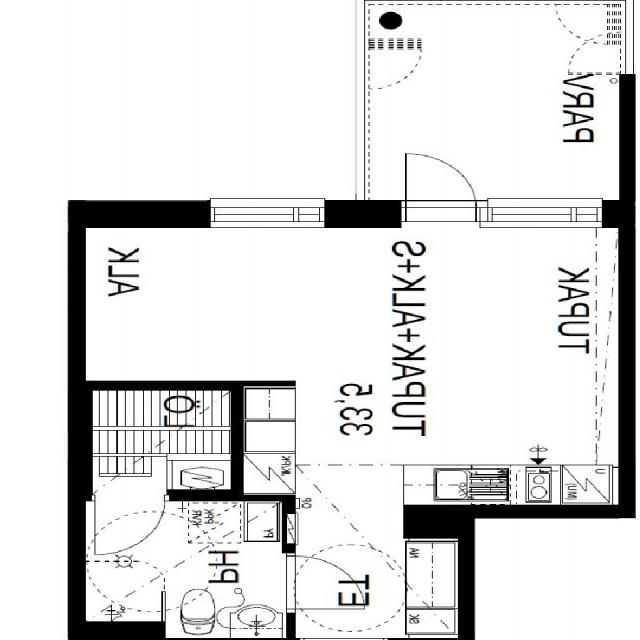door: (406, 147, 476, 228), (95, 489, 164, 554), (287, 556, 365, 609)
